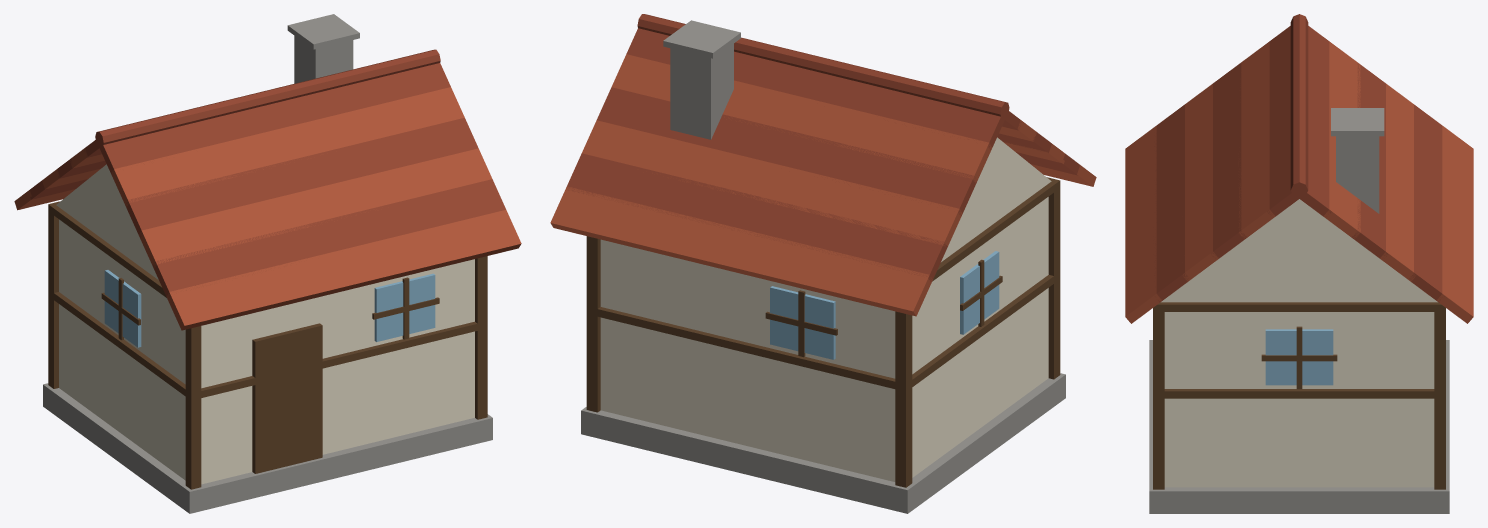
Rendered from house.glb.
The picture shows the model from 3 angles, left to right: view 1: azimuth 30°, elevation 25°; view 2: azimuth 150°, elevation 25°; view 3: azimuth 270°, elevation 25°; orthographic projection. The views are drawn at different scales.
Parts seen in each view (by area): view 1: house-col, house_detail; view 2: house-col, house_detail; view 3: house-col, house_detail.
Part boxes in pixels (x1,y1,x2,y2): house-col: (14,14,521,513); house_detail: (48,201,487,489); house-col: (550,14,1096,513); house_detail: (586,177,1060,487); house-col: (1125,14,1473,513); house_detail: (1153,302,1445,489).
Bounding box in the file's own units: 4 × 4 × 3.5.
